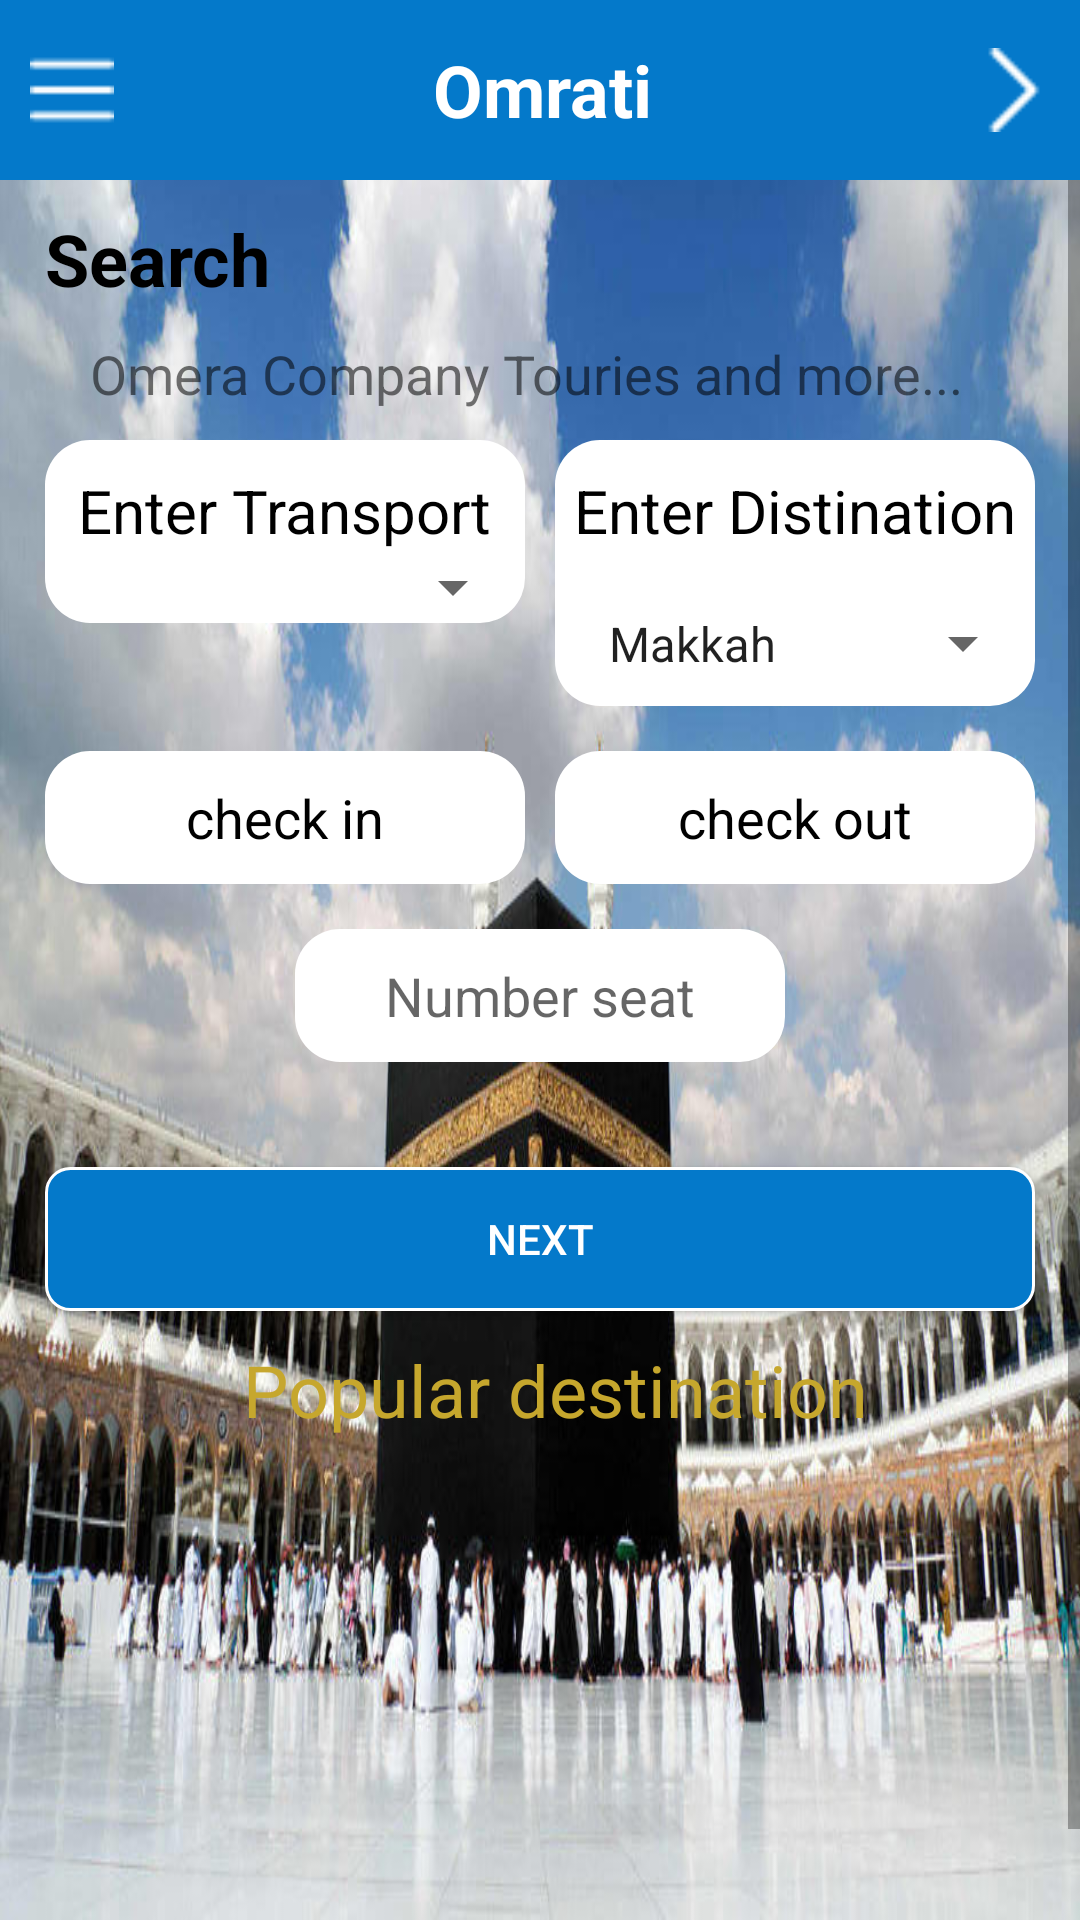

Named icons in this screenshot (1080×1920) and their centers, [x,y]:
menu: [72,90]
